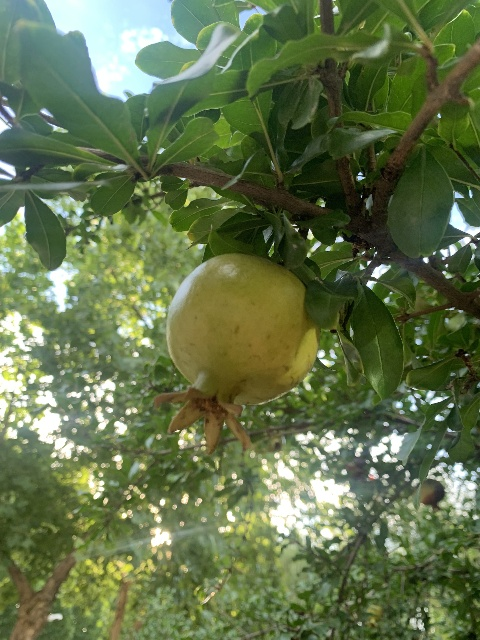mid-growth: (153, 252, 320, 454)
